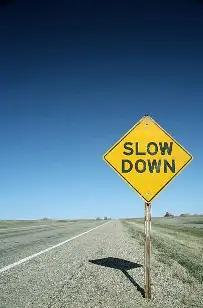Slow: (105, 118, 190, 198)
